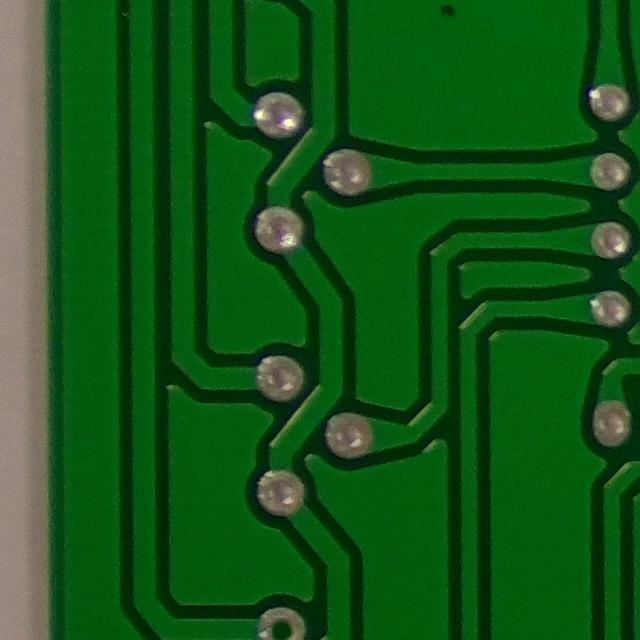missing_hole: (238, 594, 318, 640)
